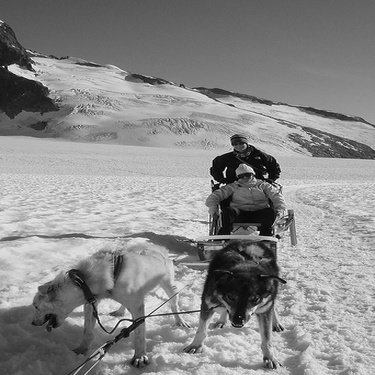dog: (23, 236, 196, 373), (176, 227, 299, 369)
